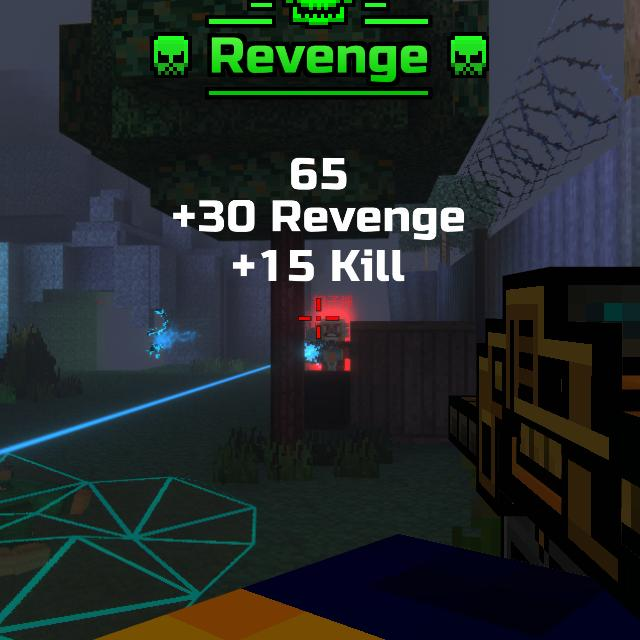Enemy: (304, 318, 350, 370)
